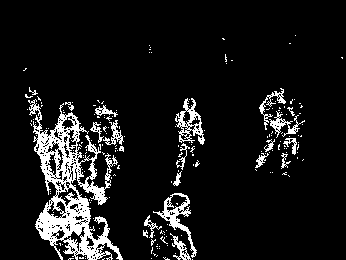person: (85, 100, 125, 205), (140, 191, 199, 260), (170, 96, 206, 187), (55, 101, 85, 192), (256, 86, 284, 173), (280, 97, 307, 178)
